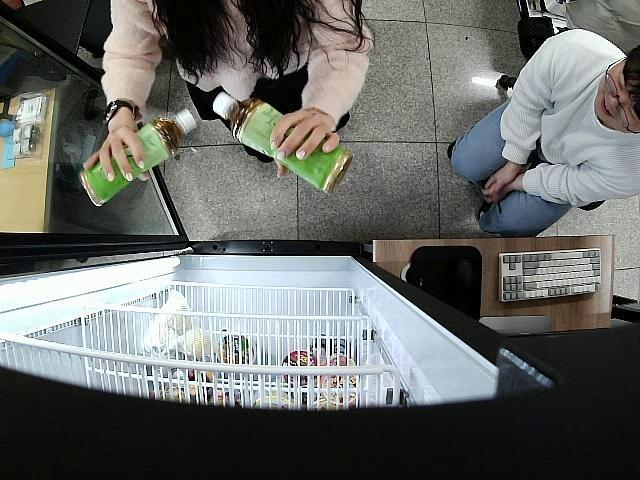19_17cha: (211, 92, 353, 192), (80, 111, 199, 210)
